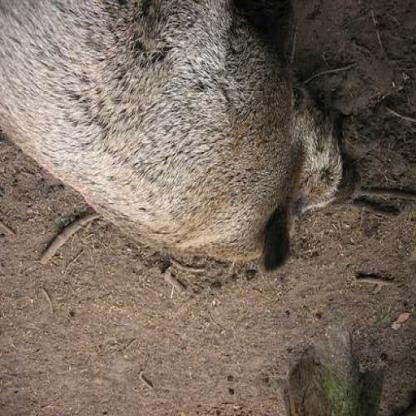boar: (0, 12, 384, 280)
